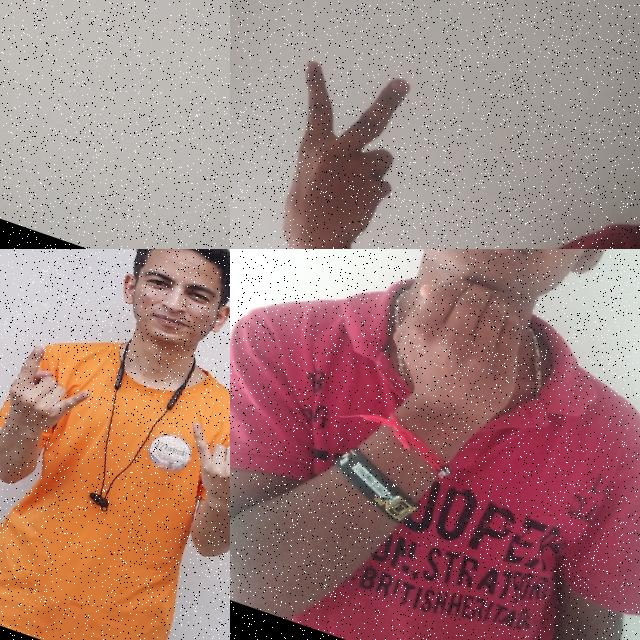Chin Flick: (301, 249, 640, 496)
Corna: (0, 330, 105, 463), (163, 399, 230, 525)
Reversed Victory: (230, 38, 436, 249)
